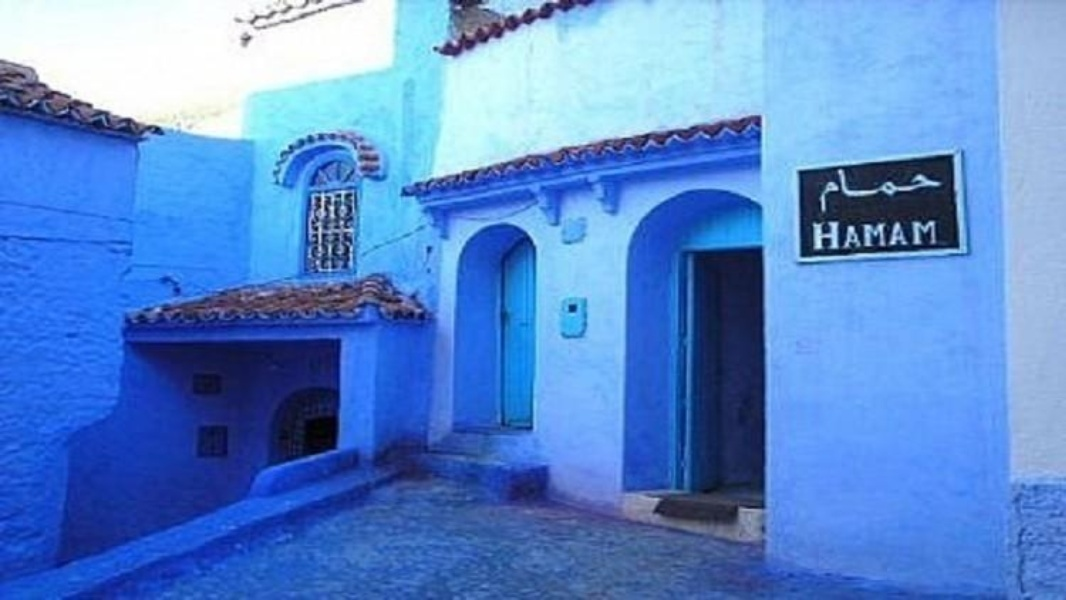text: (833, 160, 848, 212), (849, 160, 864, 212), (865, 160, 880, 212), (881, 160, 896, 212), (897, 160, 912, 212), (913, 160, 928, 212), (929, 160, 943, 212), (817, 217, 832, 252), (833, 217, 848, 252), (849, 217, 864, 252), (865, 217, 880, 252), (881, 217, 896, 252), (897, 217, 912, 252), (913, 217, 928, 252), (823, 160, 832, 212), (929, 217, 939, 252), (812, 217, 816, 252)
